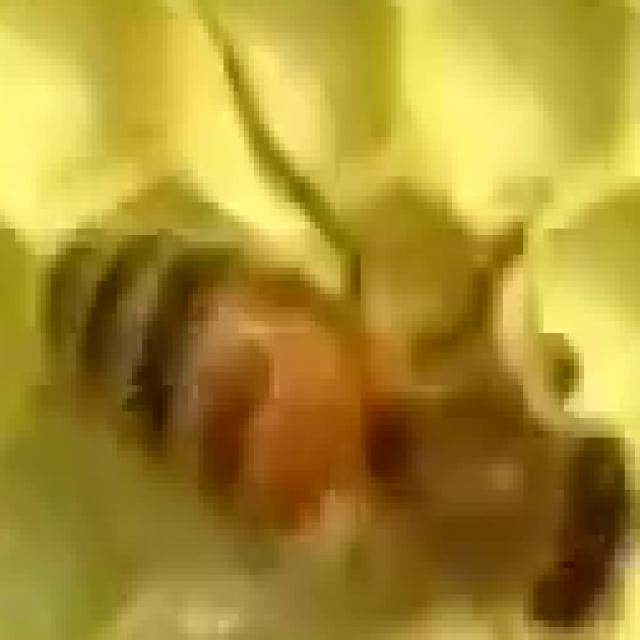honeybee: (35, 143, 640, 633)
